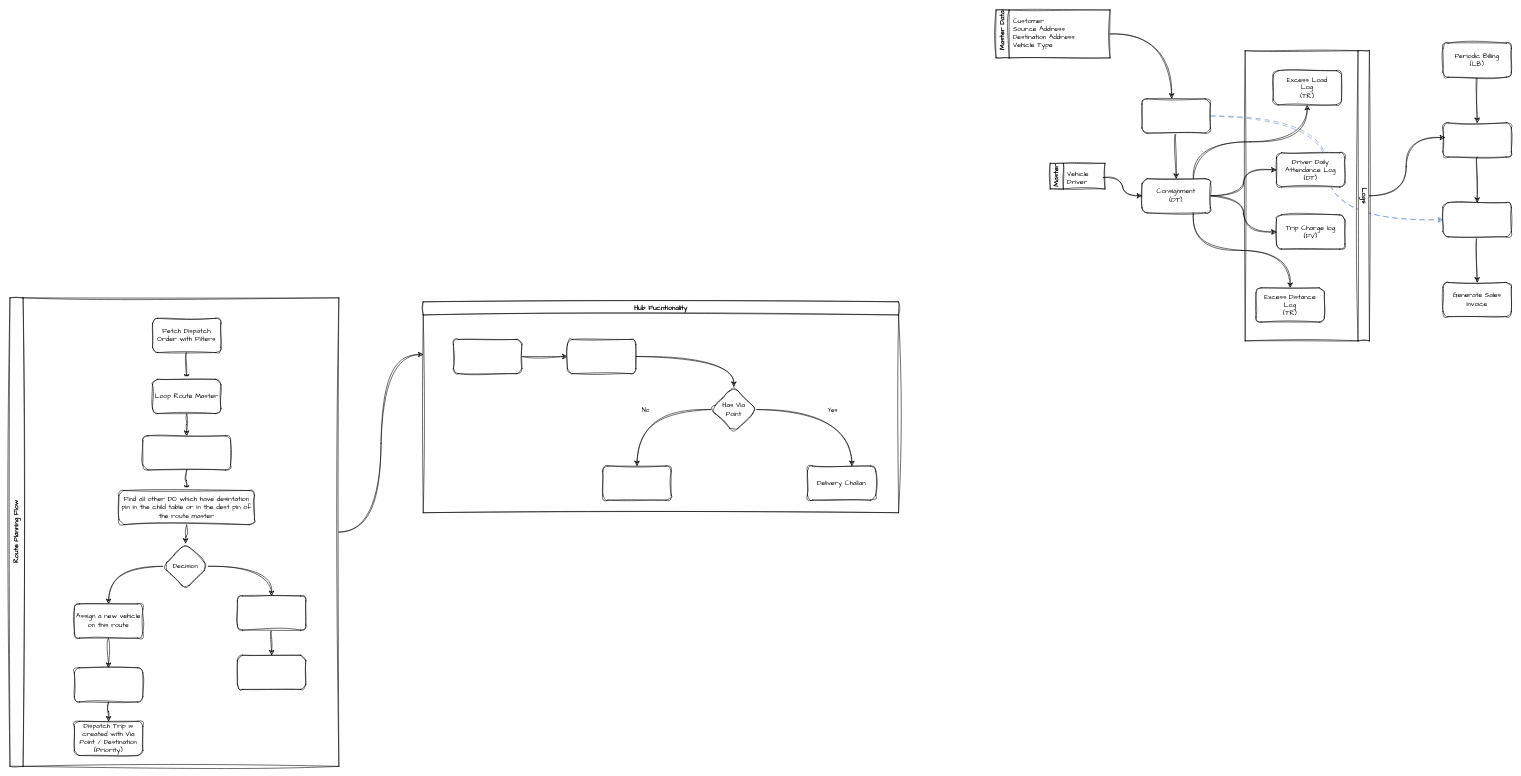
Image size: 1521x776. Some labels were removed from this diagram. The centre of each missing label's shape, as x and y in pixels:
Add to existing vehicle on the route: the point at 271,612
Add to Manifest: the point at 271,672
Create a new Manifest with DO & Create DT: the point at 108,684
Customer Rate Contract: the point at 1175,115
Dispatch Trip: the point at 487,356
End: the point at 636,482
Fetch Contract Details: the point at 1476,219
Fetch Data from Logs: the point at 1476,139
Find DO with longest distance and with source pin code in route start pin and: the point at 186,452
Trip Release: the point at 601,356
